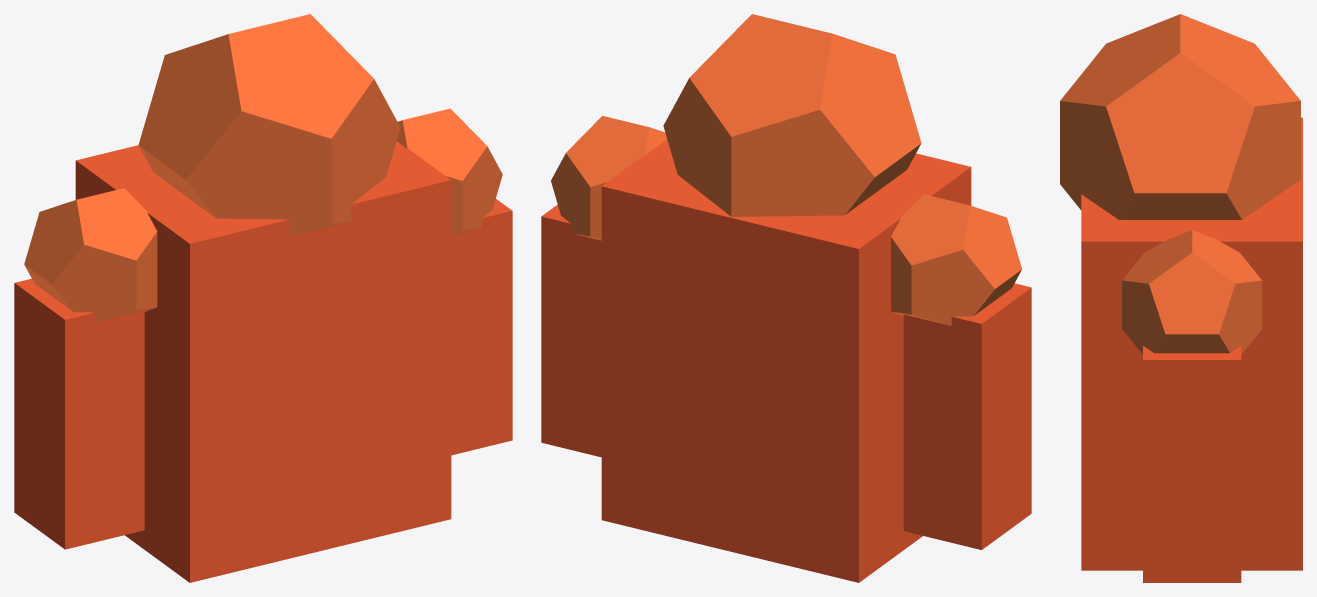
File: elite_mountain_spirit.glb
3 views of the same model, side by side, from view 1: azimuth 30°, elevation 25°; view 2: azimuth 150°, elevation 25°; view 3: azimuth 270°, elevation 25° (orthographic). The views are drawn at different scales.
Visible parts, largest first — view 1: body, head, arm_l, arm_r, shoulder_r, shoulder_l; view 2: body, head, arm_l, arm_r, shoulder_r, shoulder_l; view 3: body, head, arm_r, shoulder_l.
Part boxes in pixels (box(x1,y1,x2,y2)): body: box(75, 141, 451, 582); head: box(138, 14, 400, 236); arm_l: box(14, 278, 144, 549); arm_r: box(451, 199, 512, 455); shoulder_r: box(24, 188, 157, 321); shoulder_l: box(397, 108, 502, 235); body: box(601, 139, 971, 582); head: box(663, 14, 921, 216); arm_l: box(903, 283, 1031, 549); arm_r: box(541, 204, 601, 457); shoulder_r: box(891, 194, 1021, 325); shoulder_l: box(551, 116, 666, 240); body: box(1081, 117, 1302, 570); head: box(1060, 14, 1300, 219); arm_r: box(1143, 346, 1241, 582); shoulder_l: box(1122, 230, 1262, 354).
Size of the model in its own units: 2.59 by 2.69 by 1.24.
